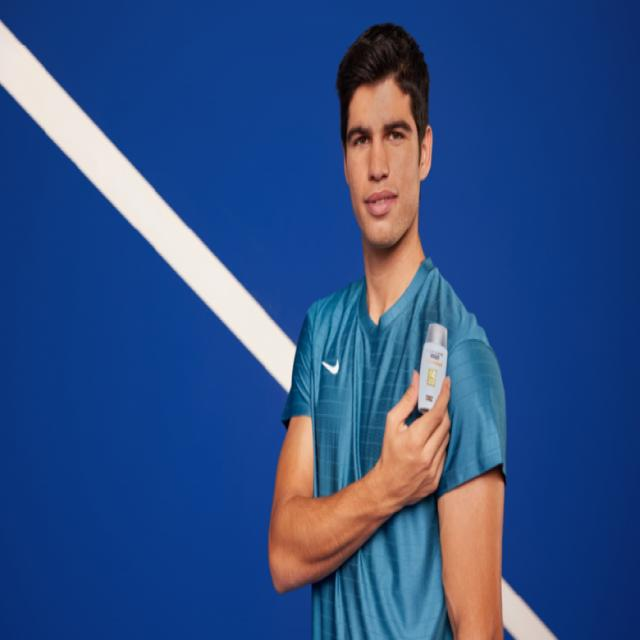nike: (312, 343, 349, 386)
